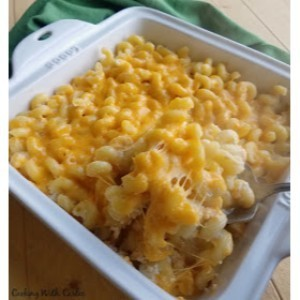cheese_brain food: (99, 105, 235, 200)
